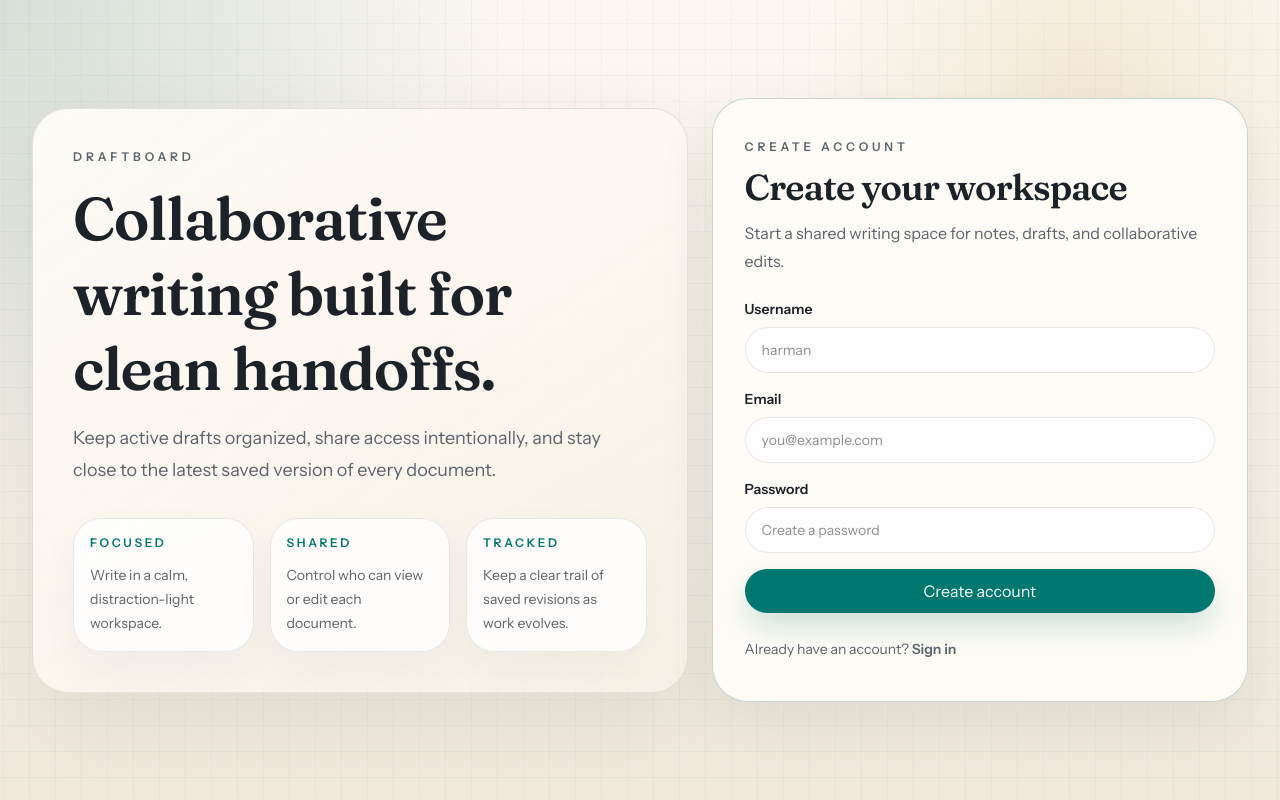
Test: AuthPage › validates missing registration fields before submitting
Step 1. Click the button "Create account" → click(980, 591), box [745, 569, 1215, 613]
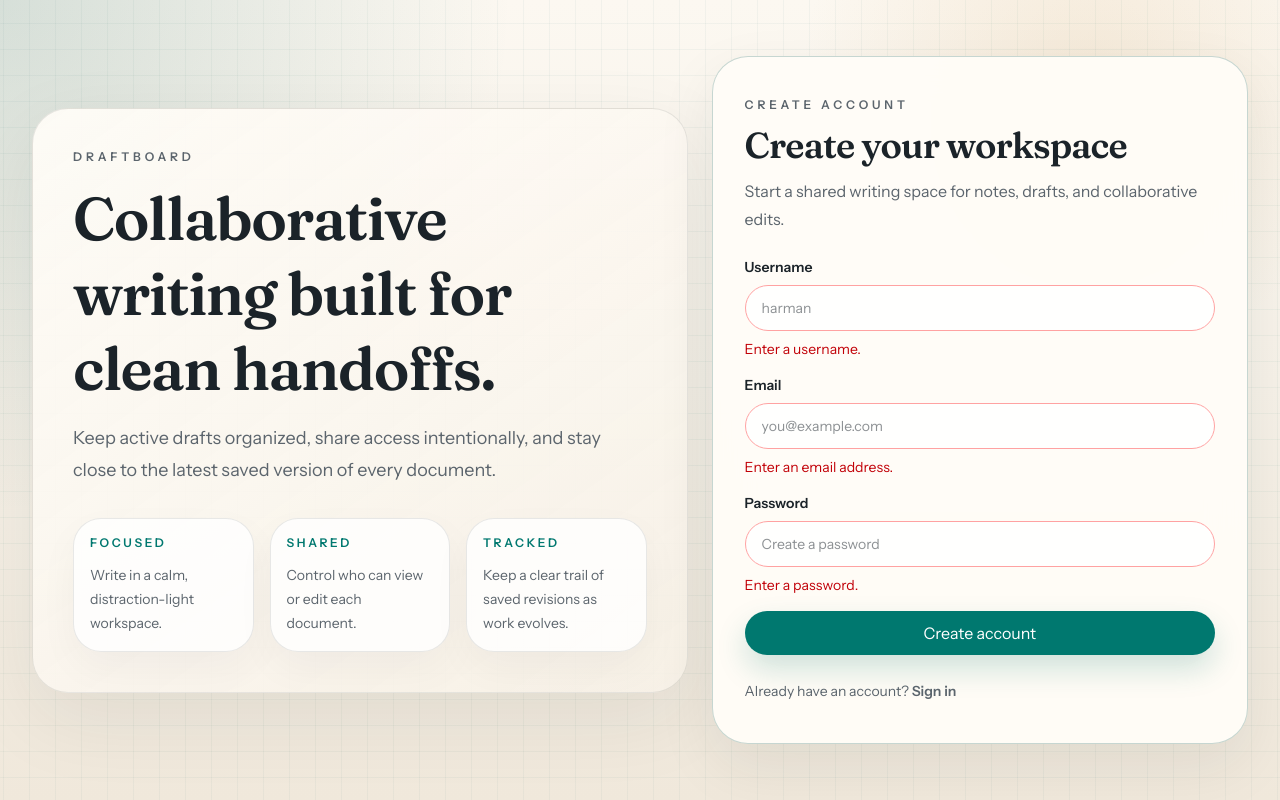
Now the text "Enter a username." is shown, box [745, 340, 861, 358]
Now the text "Enter an email address." is shown, box [745, 458, 893, 476]
Now the text "Enter a password." is shown, box [745, 576, 858, 594]
